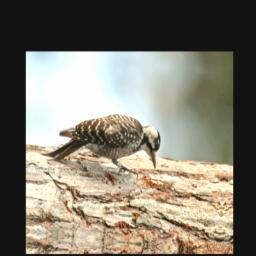Woodpecker: (39, 104, 165, 182)
